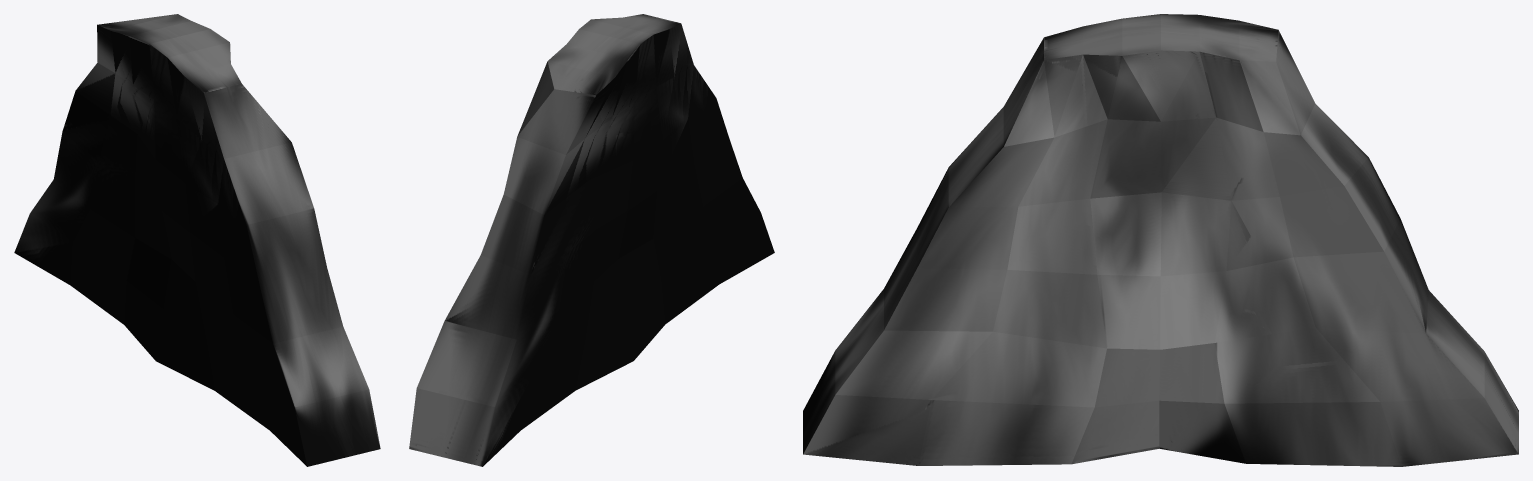
Rendered from rock_1.fbx.
3 views of the same model, side by side, from view 1: azimuth 30°, elevation 25°; view 2: azimuth 150°, elevation 25°; view 3: azimuth 270°, elevation 25° (orthographic). The views are drawn at different scales.
Parts seen in each view (by area): view 1: Cube.004; view 2: Cube.004; view 3: Cube.004.
Boxes of the visible parts, x1,y1,x2,y2 form: Cube.004: [14, 14, 380, 466]; Cube.004: [409, 14, 774, 466]; Cube.004: [803, 14, 1518, 466].
Size of the model in its own units: 330 by 902 by 1498.
1 material, 1 textured.
